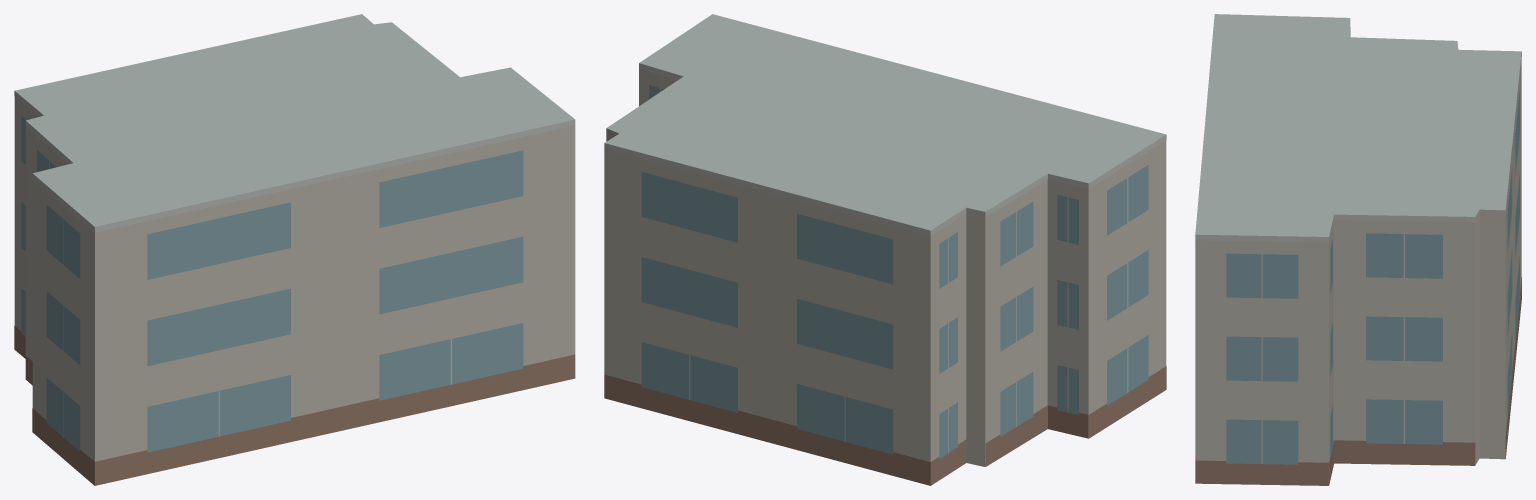
The model's file is survey-upis-32848164.glb.
3 renders of one model, left to right at view 1: azimuth 30°, elevation 25°; view 2: azimuth 150°, elevation 25°; view 3: azimuth 270°, elevation 25°, orthographic. The views are drawn at different scales.
Parts seen in each view (by area): view 1: survey-upis-32848164.tmp; view 2: survey-upis-32848164.tmp; view 3: survey-upis-32848164.tmp.
Part boxes in pixels (x1=…): survey-upis-32848164.tmp: x1=14, y1=14, x2=575, y2=485; survey-upis-32848164.tmp: x1=604, y1=14, x2=1166, y2=485; survey-upis-32848164.tmp: x1=1195, y1=14, x2=1521, y2=485.
Size of the model in its own units: 20.95 by 10.9 by 12.97.
